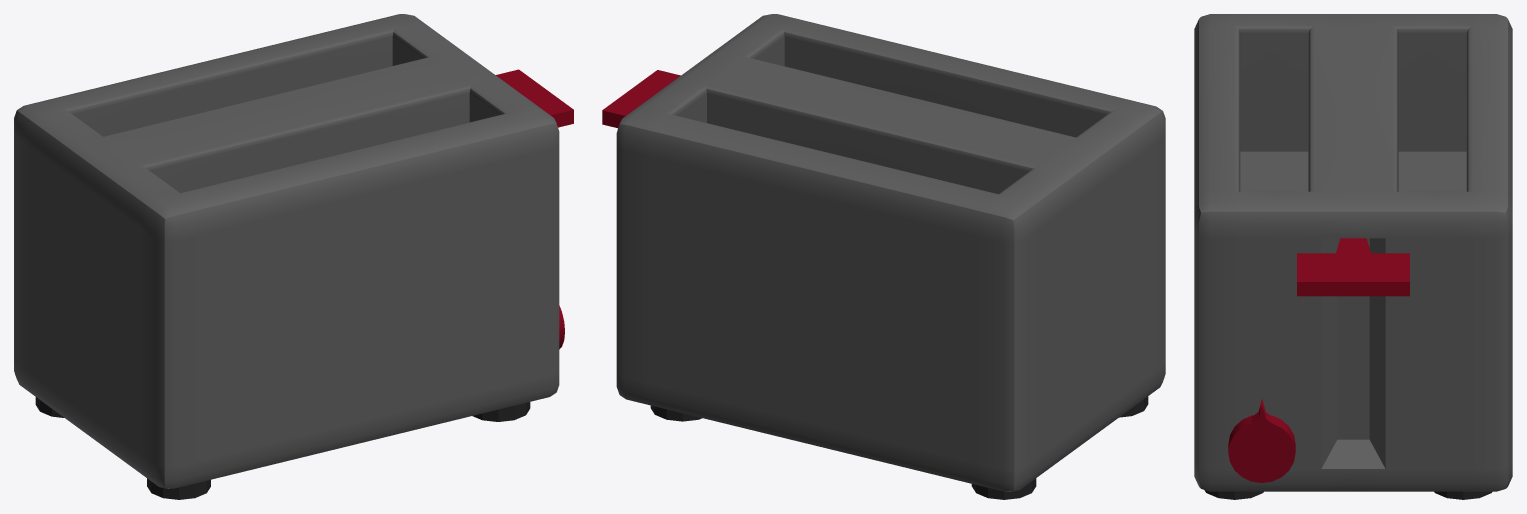
The model's file is SM_Toaster.fbx.
3 views of the same model, side by side, from view 1: azimuth 30°, elevation 25°; view 2: azimuth 150°, elevation 25°; view 3: azimuth 270°, elevation 25° (orthographic). The views are drawn at different scales.
Visible parts, largest first — view 1: SM_ToasterBase, SM_ToasterFeet, SM_ToasterHandle; view 2: SM_ToasterBase, SM_ToasterHandle, SM_ToasterFeet; view 3: SM_ToasterBase, SM_ToasterHandle, SM_ToasterSwitch, SM_ToasterFeet.
Boxes of the visible parts, left/top/right/bottom form: SM_ToasterBase: left=14, top=14, right=559, bottom=488; SM_ToasterFeet: left=35, top=397, right=530, bottom=499; SM_ToasterHandle: left=496, top=69, right=573, bottom=127; SM_ToasterBase: left=616, top=14, right=1165, bottom=491; SM_ToasterHandle: left=602, top=70, right=680, bottom=128; SM_ToasterFeet: left=650, top=396, right=1148, bottom=499; SM_ToasterBase: left=1194, top=14, right=1512, bottom=491; SM_ToasterHandle: left=1297, top=238, right=1409, bottom=296; SM_ToasterSwitch: left=1228, top=398, right=1295, bottom=482; SM_ToasterFeet: left=1204, top=490, right=1492, bottom=499.
Size of the model in its own units: 34.34 by 20.84 by 20.
